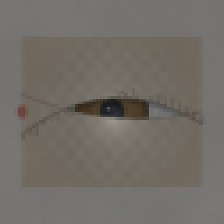hemorrhage_spot: (85, 70, 151, 123)
